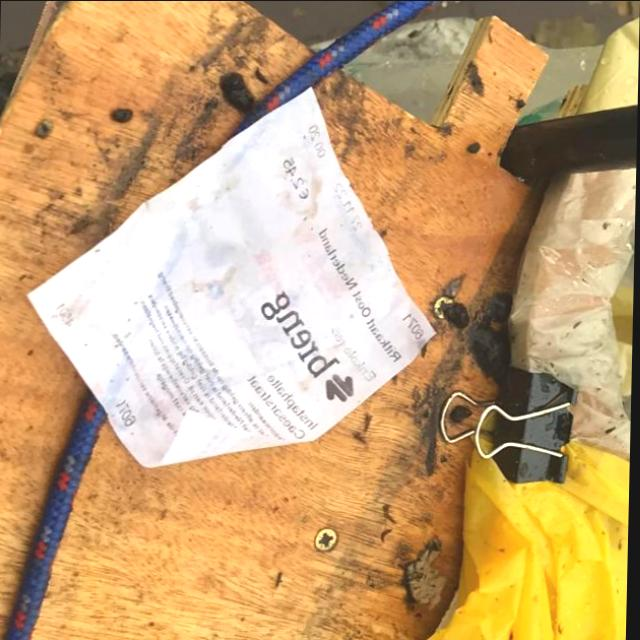Paper: (20, 81, 445, 470)
